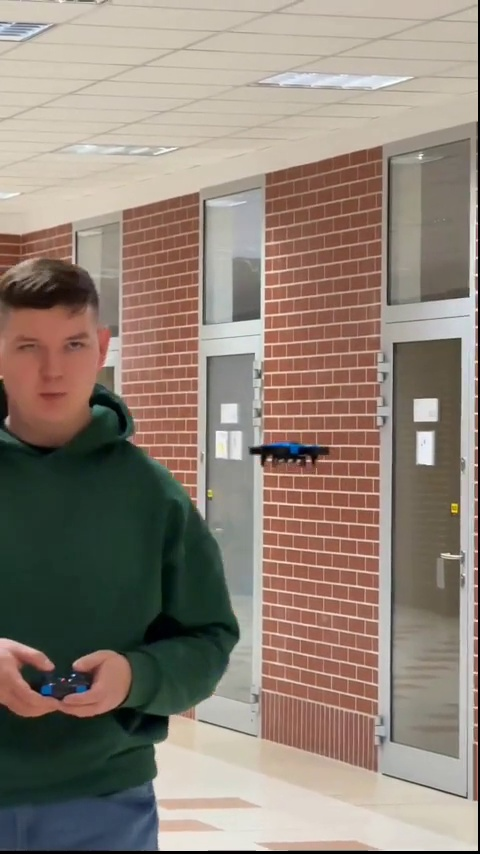drone: (248, 440, 331, 467)
no vest: (3, 251, 238, 854)
